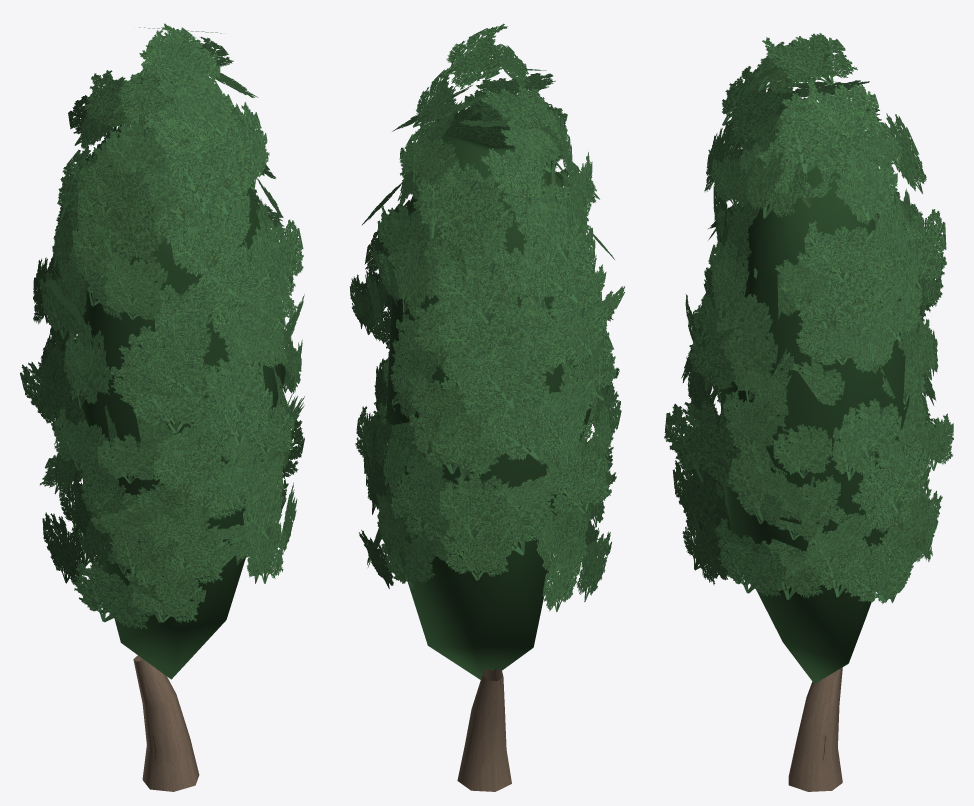
The model's file is THUJA_1.glb.
3 views of the same model, side by side, from view 1: azimuth 30°, elevation 25°; view 2: azimuth 150°, elevation 25°; view 3: azimuth 270°, elevation 25° (orthographic). The views are drawn at different scales.
Parts seen in each view (by area): view 1: Arv_THUJA_lod1; view 2: Arv_THUJA_lod1; view 3: Arv_THUJA_lod1.
Part boxes in pixels (x1,y1,x2,y2): Arv_THUJA_lod1: (20,23,304,791); Arv_THUJA_lod1: (349,23,624,791); Arv_THUJA_lod1: (664,33,953,791).
Bounding box in the file's own units: 3.69 × 10.23 × 3.68.
3 materials, 2 textured.
